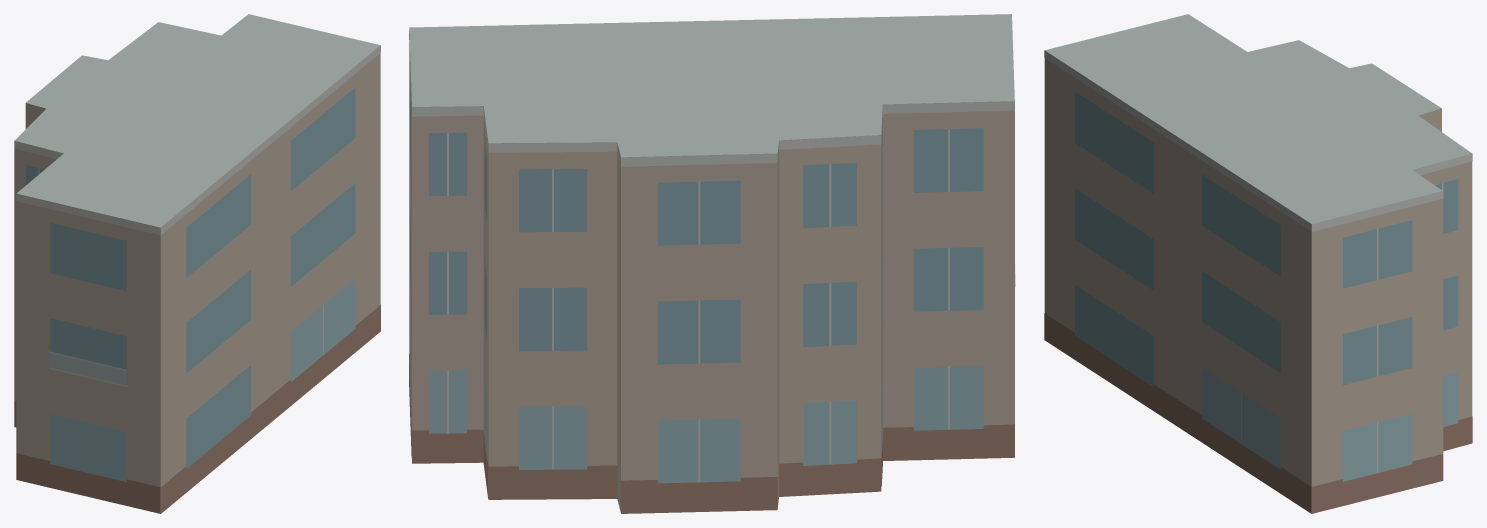
Rendered from survey-upis-32518876.glb.
The picture shows the model from 3 angles, left to right: view 1: azimuth 30°, elevation 25°; view 2: azimuth 150°, elevation 25°; view 3: azimuth 270°, elevation 25°; orthographic projection. The views are drawn at different scales.
Parts seen in each view (by area): view 1: survey-upis-32518876.tmp; view 2: survey-upis-32518876.tmp; view 3: survey-upis-32518876.tmp.
Part boxes in pixels (bbox=[...]): survey-upis-32518876.tmp: bbox=[14, 14, 380, 513]; survey-upis-32518876.tmp: bbox=[409, 14, 1015, 513]; survey-upis-32518876.tmp: bbox=[1044, 14, 1472, 513].
Bounding box in the file's own units: 14.23 × 9.15 × 12.25.
